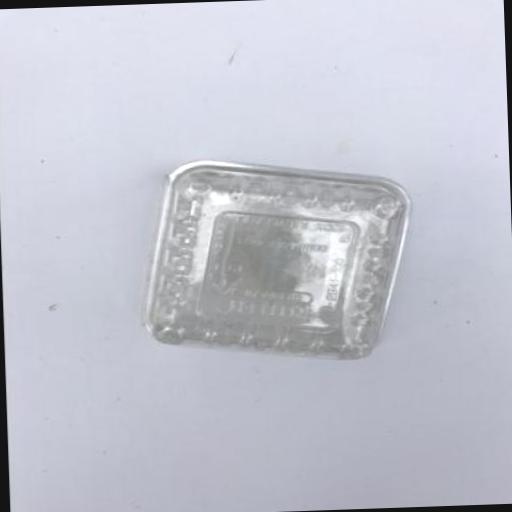plastic: (134, 149, 416, 366)
